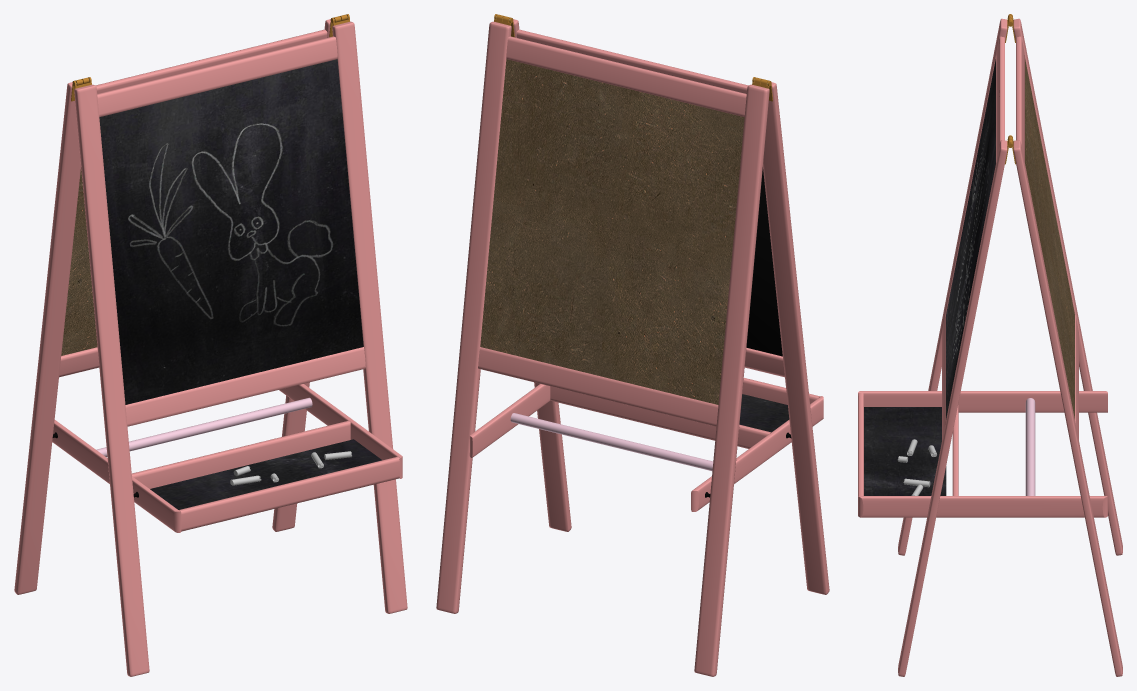
File: IkeaMala.fbx
3 views of the same model, side by side, from view 1: azimuth 30°, elevation 25°; view 2: azimuth 150°, elevation 25°; view 3: azimuth 270°, elevation 25° (orthographic). The views are drawn at different scales.
Visible parts, largest first — view 1: mala; view 2: mala; view 3: mala.
Boxes of the visible parts, <box> form: mala: <box>14,14,407,676</box>; mala: <box>436,14,829,676</box>; mala: <box>858,14,1122,676</box>.
Size of the model in its own units: 0.4597 by 0.3943 by 0.8764.
